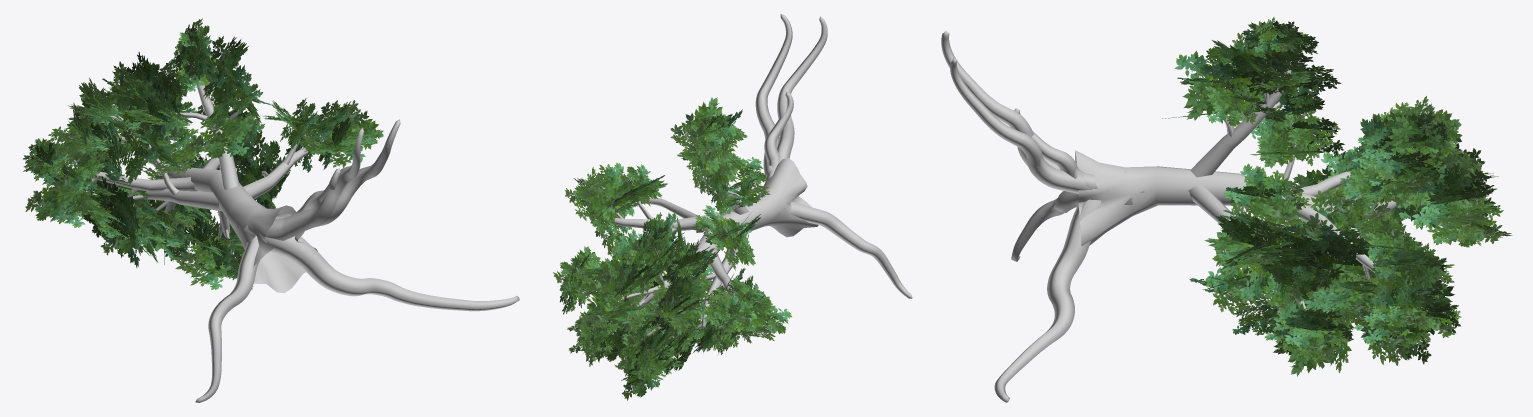
The model's file is Tree 2.FBX.
The picture shows the model from 3 angles, left to right: view 1: azimuth 30°, elevation 25°; view 2: azimuth 150°, elevation 25°; view 3: azimuth 270°, elevation 25°; orthographic projection. The views are drawn at different scales.
Visible parts, largest first — view 1: tree 2; view 2: tree 2; view 3: tree 2.
Boxes of the visible parts, left/top/right/bottom form: tree 2: left=23, top=18, right=519, bottom=402; tree 2: left=553, top=14, right=912, bottom=400; tree 2: left=941, top=17, right=1512, bottom=402.
Bounding box in the file's own units: 961 × 814 × 1274.
